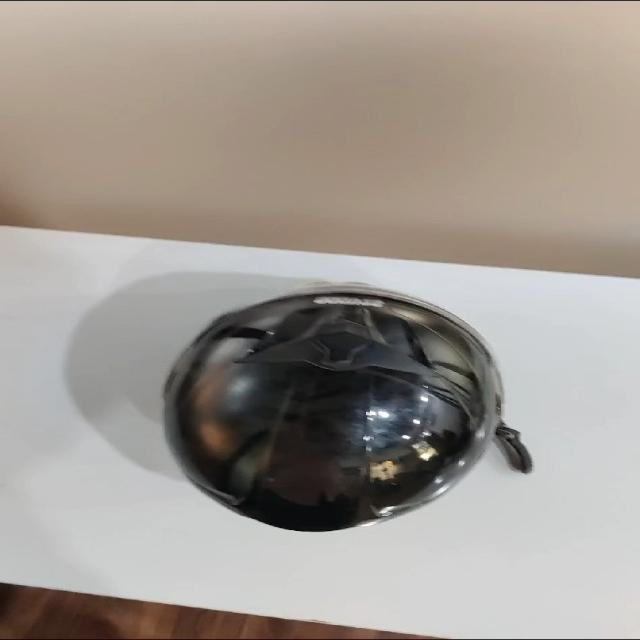helmet: (155, 276, 545, 534)
